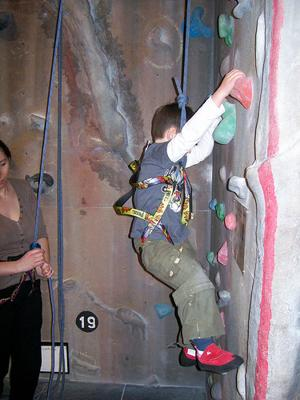person: (128, 69, 246, 373)
